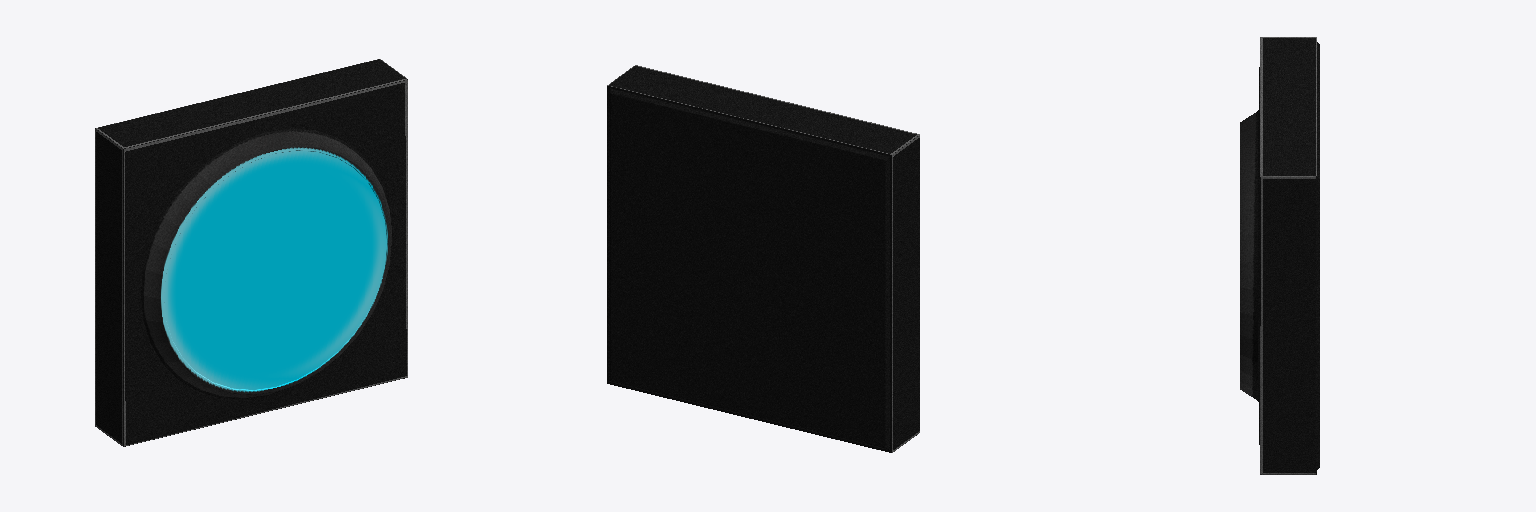
3 renders of one model, left to right at view 1: azimuth 30°, elevation 25°; view 2: azimuth 150°, elevation 25°; view 3: azimuth 270°, elevation 25°, orthographic.
Parts seen in each view (by area): view 1: M; view 2: M; view 3: M.
Boxes of the visible parts, <box> form: M: <box>95,59,407,446</box>; M: <box>607,65,919,452</box>; M: <box>1240,37,1319,474</box>.
Size of the model in its own units: 12.8 by 12.8 by 3.12.
Materials: 1 (1 with a texture image).